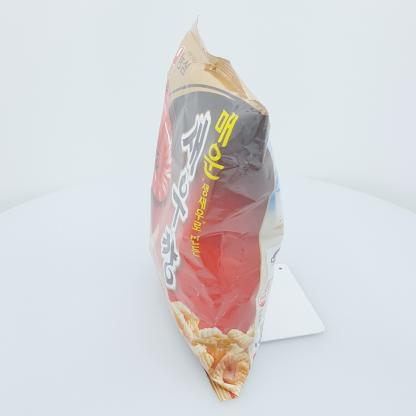Plastic Packaging: (142, 10, 292, 406)
